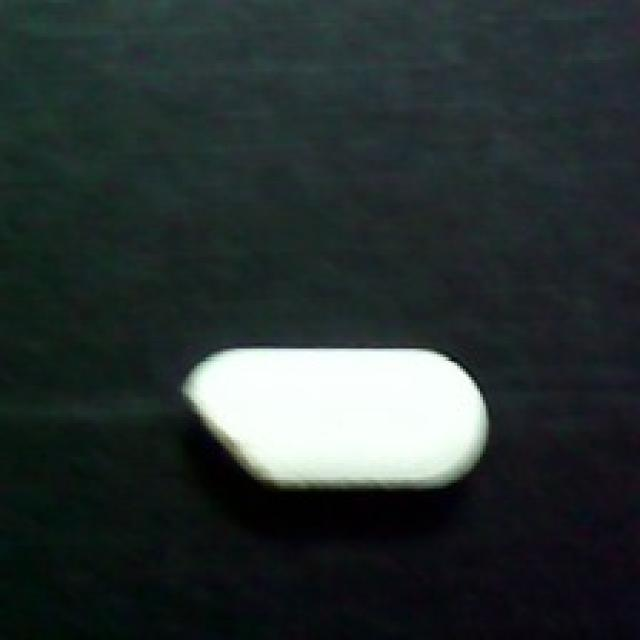defected: (174, 340, 491, 494)
